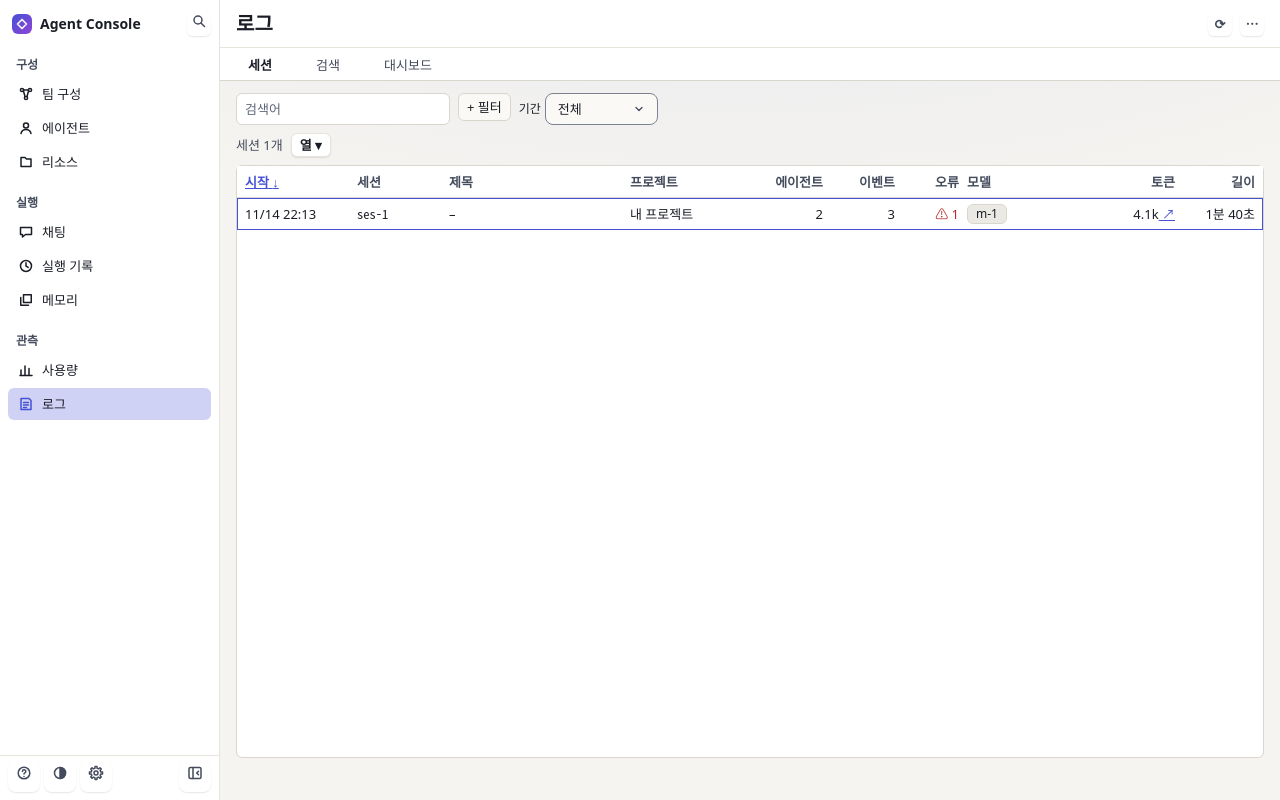
로그 화면: 기능이 줄어든 자리에서 닿는다(AC-1·AC-3) › ★ 단추 없이 [+ 필터] 메뉴 맨 아래에 즐겨찾는 필터 구역이 있다(세션 목록)
Check: the table named "세션 목록" is shown, box [236,165,1264,758]
Check: the button "즐겨찾는 필터" is not shown
Click the button "+ 필터". click: (484,107)
box: [458,93,511,121]
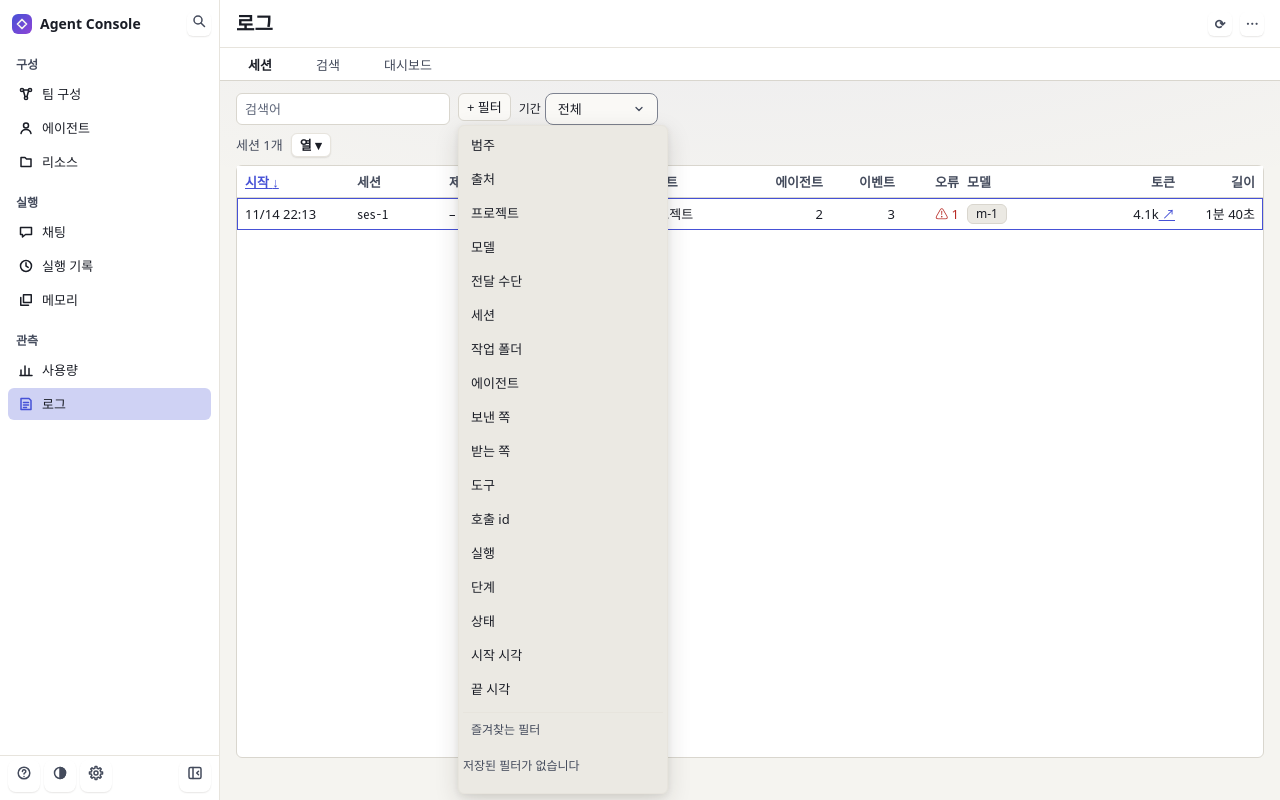
Check: the element "즐겨찾는 필터" shows "저장된 필터가 없습니다", box [463,757,580,774]
